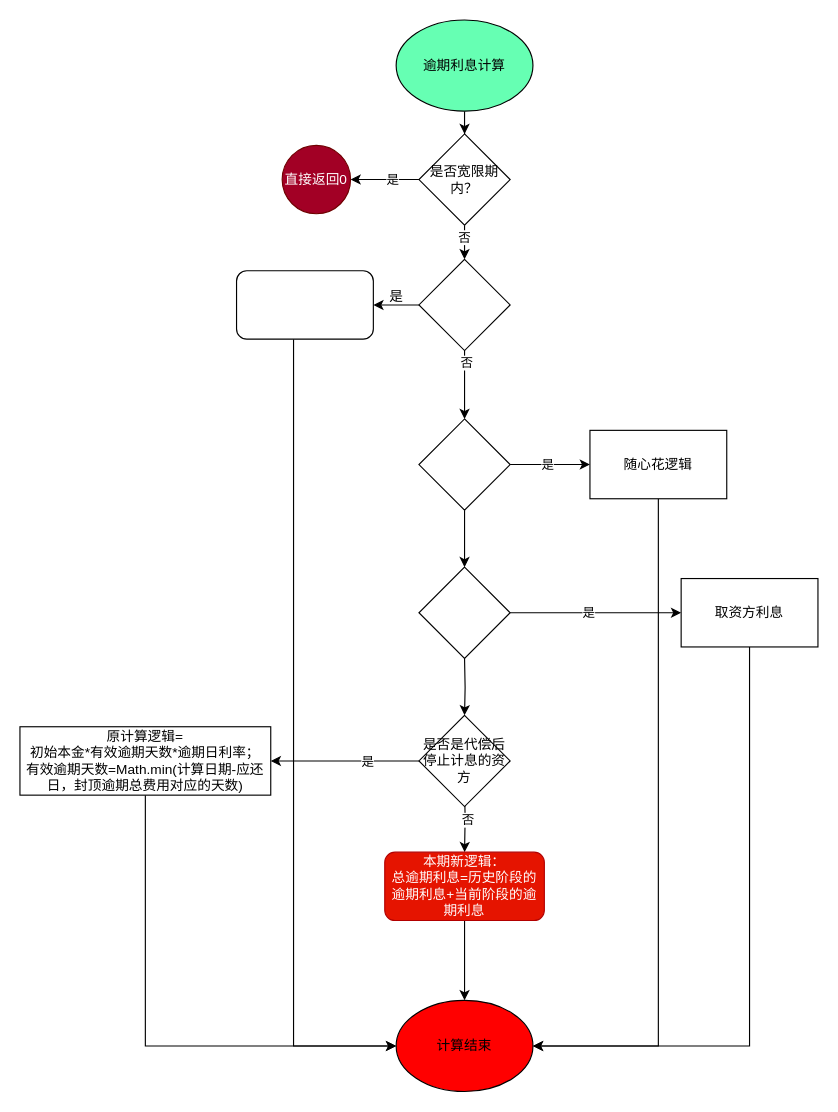
Image size: 838x1112. Some labels were removed from this diagram. The centre of each missing label's shape, as x and y in pixels:
"是否是随心花？" goes at pixel 464 464.
"是否有特殊资方实现类？" goes at pixel 464 304.
"是否逾期利息取资方？" goes at pixel 464 612.
"特殊资方实现类" goes at pixel 304 304.
